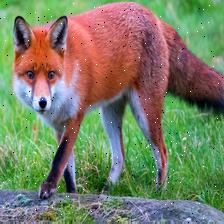fox: (0, 2, 224, 223)
